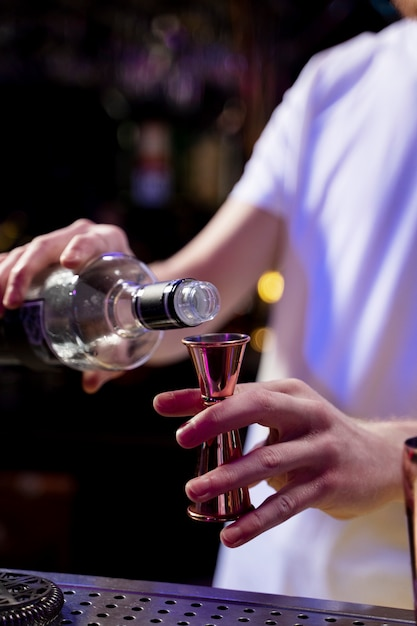alcohol: (1, 247, 225, 378)
